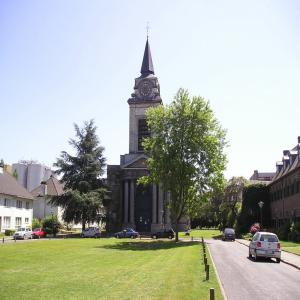Vehicle-registration-plate: (268, 252, 273, 254)
